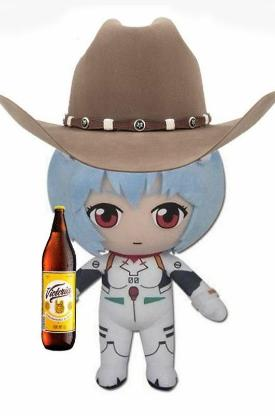rei-plush: (43, 146, 240, 392)
